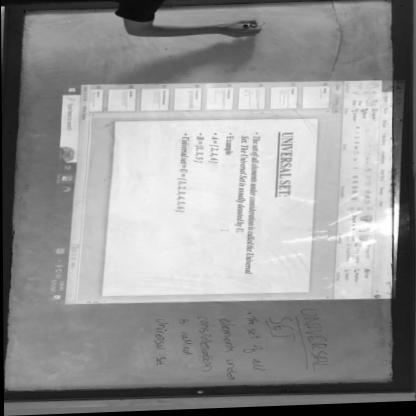Handwritten text: (295, 306, 336, 379), (211, 314, 247, 389), (239, 315, 275, 379), (145, 316, 174, 370), (195, 314, 219, 379), (173, 315, 196, 363), (265, 315, 296, 344)
Whiteboard: (0, 0, 399, 391)
